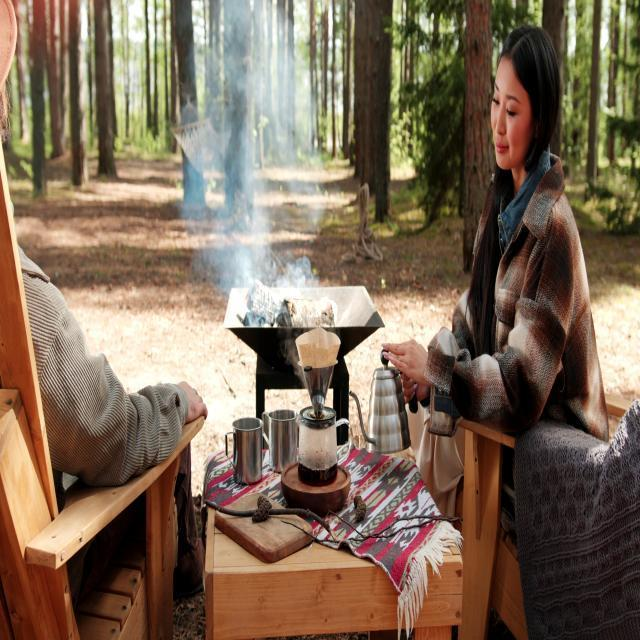Smoke: (178, 2, 332, 309)
